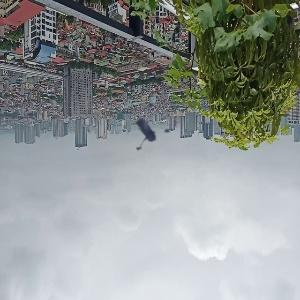drone: (118, 93, 190, 165)
